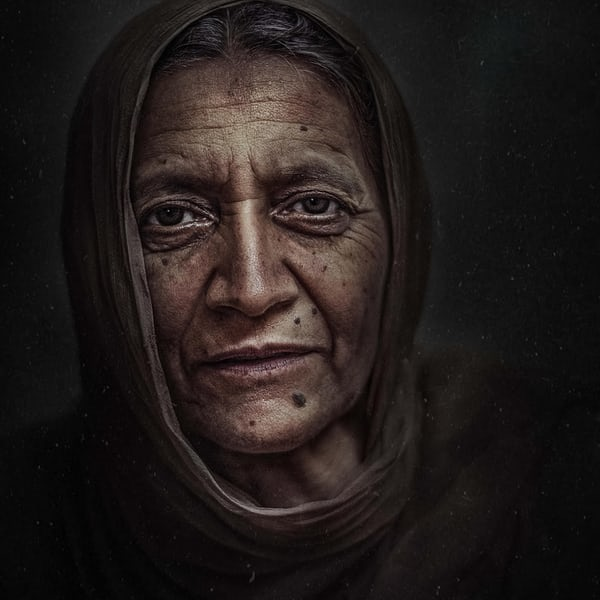DARK_SPOTS: (289, 386, 307, 412), (357, 284, 372, 297), (156, 157, 170, 170), (308, 306, 323, 318), (159, 254, 171, 268), (292, 314, 303, 327), (318, 261, 330, 272), (298, 121, 308, 134), (340, 280, 350, 290), (245, 417, 256, 425)
PUFFY_EYES: (261, 179, 363, 247), (134, 187, 232, 250)
WRINKLES: (138, 87, 345, 163), (352, 210, 385, 262)
